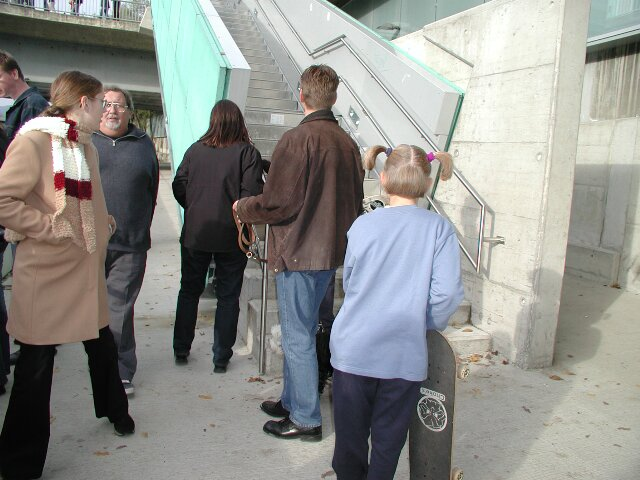person: (1, 67, 142, 468), (327, 142, 466, 479), (243, 61, 354, 439), (89, 76, 159, 421), (173, 95, 244, 375)
